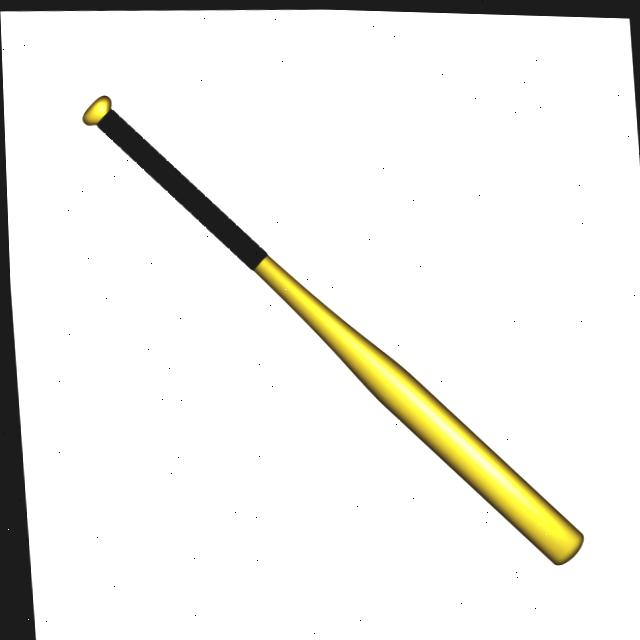baseball bat: (54, 36, 626, 607)
